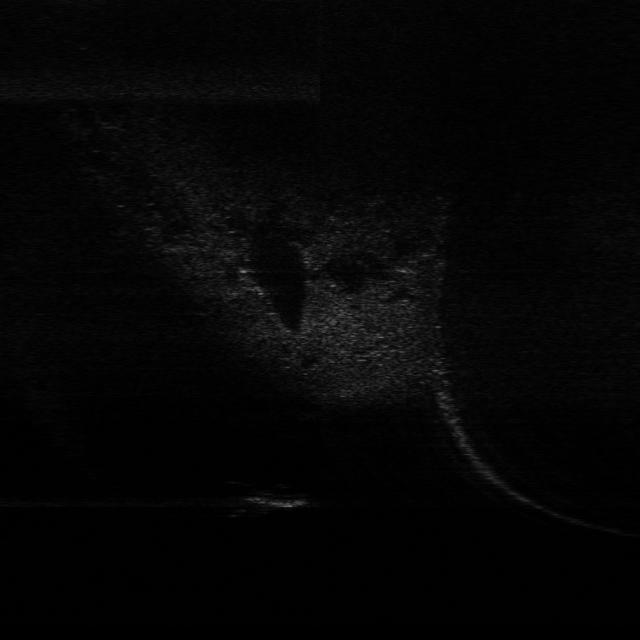cube: (228, 486, 317, 518)
